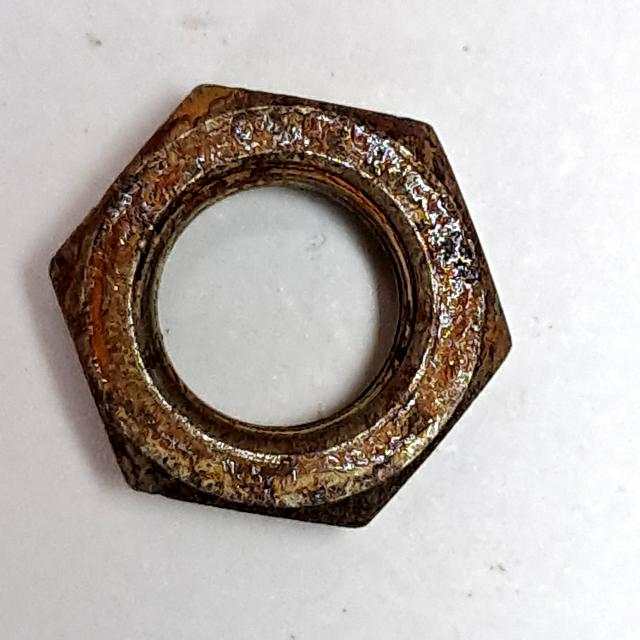Rust: (38, 68, 525, 540)
